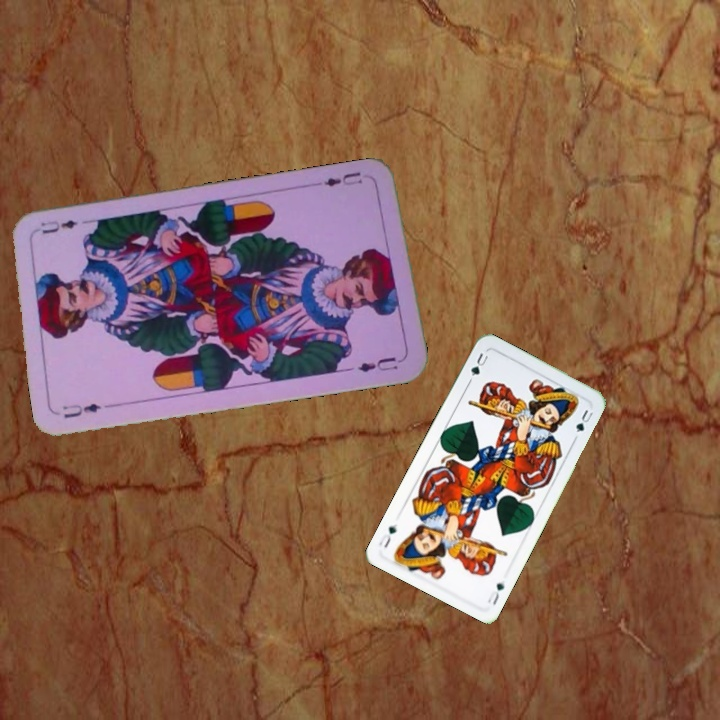EU: (58, 399, 104, 421), (320, 167, 365, 189)
GU: (465, 349, 491, 385), (483, 576, 507, 608)
